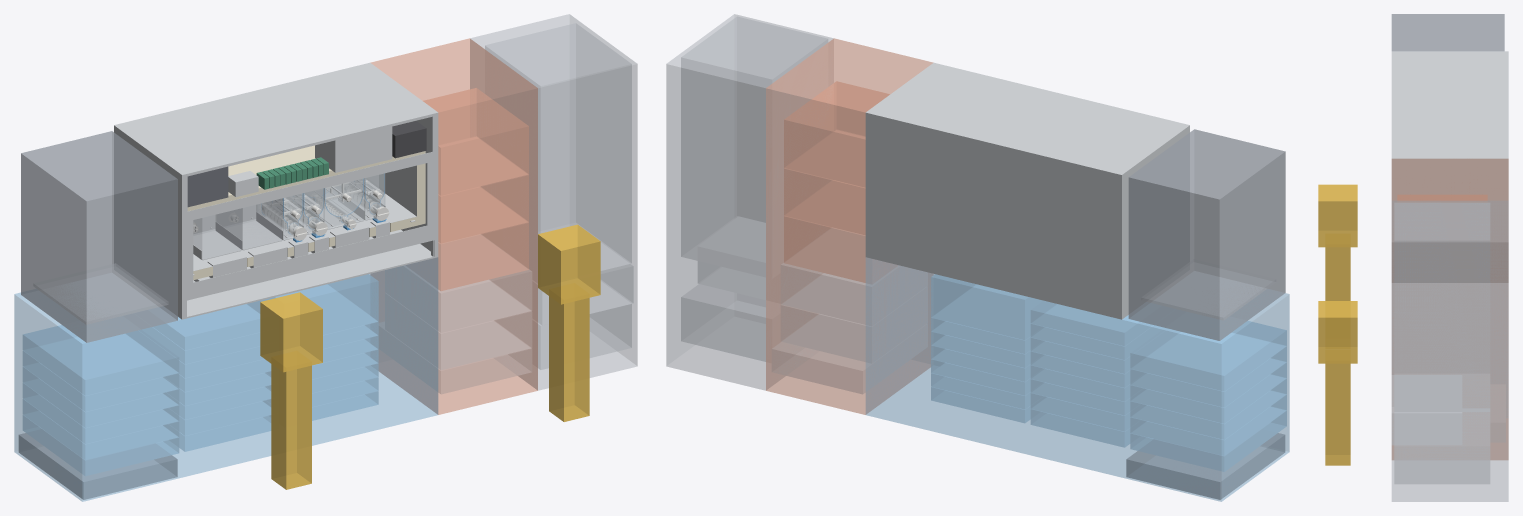
Rendered from hat_v9.glb.
The picture shows the model from 3 angles, left to right: view 1: azimuth 30°, elevation 25°; view 2: azimuth 150°, elevation 25°; view 3: azimuth 270°, elevation 25°; orthographic projection. The views are drawn at different scales.
Visible parts, largest first — view 1: B_KABIN, TOPPING_MODUL__sac, D_KABIN, E_KABIN, PRESS, E_SARJOR, FIRIN_3, CEK_K1_hamur_6, B_SOGUTMA, ROBOT_2, ROBOT_1, PRESS_PLAKA (+40 smaller); view 2: B_KABIN, TOPPING_MODUL__sac, D_KABIN, E_KABIN, PRESS, E_SARJOR, FIRIN_3, CEK_K1_hamur_6, B_SOGUTMA, E_MEK, PRESS_PLAKA, CEK_K3_icecek_1 (+25 smaller); view 3: E_KABIN, TOPPING_MODUL__sac, E_SARJOR, D_KABIN, E_MEK, PRESS, ROBOT_2, ROBOT_1_KOL, ROBOT_2_KOL, E_AGZ, ROBOT_1, FIRIN_3.
Part boxes in pixels (x1=…): B_KABIN: x1=14, y1=257, x2=438, y2=501; TOPPING_MODUL__sac: x1=114, y1=62, x2=438, y2=319; D_KABIN: x1=370, y1=38, x2=537, y2=414; E_KABIN: x1=470, y1=14, x2=637, y2=390; PRESS: x1=21, y1=131, x2=177, y2=342; E_SARJOR: x1=485, y1=23, x2=631, y2=270; FIRIN_3: x1=423, y1=88, x2=528, y2=195; CEK_K1_hamur_6: x1=23, y1=325, x2=178, y2=395; B_SOGUTMA: x1=18, y1=429, x2=177, y2=499; ROBOT_2: x1=549, y1=283, x2=589, y2=421; ROBOT_1: x1=271, y1=351, x2=311, y2=489; PRESS_PLAKA: x1=33, y1=263, x2=168, y2=324; B_KABIN: x1=865, y1=257, x2=1289, y2=501; TOPPING_MODUL__sac: x1=865, y1=62, x2=1189, y2=319; D_KABIN: x1=766, y1=38, x2=933, y2=414; E_KABIN: x1=666, y1=14, x2=833, y2=390; PRESS: x1=1128, y1=129, x2=1285, y2=340; E_SARJOR: x1=681, y1=16, x2=827, y2=277; FIRIN_3: x1=784, y1=81, x2=889, y2=187; CEK_K1_hamur_6: x1=1130, y1=321, x2=1286, y2=391; B_SOGUTMA: x1=1126, y1=429, x2=1285, y2=499; E_MEK: x1=681, y1=284, x2=765, y2=361; PRESS_PLAKA: x1=1141, y1=259, x2=1275, y2=320; CEK_K3_icecek_1: x1=931, y1=274, x2=1042, y2=339; E_KABIN: x1=1391, y1=200, x2=1508, y2=501; TOPPING_MODUL__sac: x1=1391, y1=51, x2=1508, y2=282; E_SARJOR: x1=1394, y1=203, x2=1489, y2=411; D_KABIN: x1=1392, y1=158, x2=1508, y2=459; E_MEK: x1=1394, y1=412, x2=1489, y2=483; PRESS: x1=1391, y1=14, x2=1504, y2=51; ROBOT_2: x1=1325, y1=363, x2=1350, y2=465; ROBOT_1_KOL: x1=1318, y1=184, x2=1357, y2=247; ROBOT_2_KOL: x1=1318, y1=301, x2=1357, y2=363; E_AGZ: x1=1392, y1=375, x2=1461, y2=444; ROBOT_1: x1=1325, y1=234, x2=1350, y2=300; FIRIN_3: x1=1397, y1=195, x2=1487, y2=200.
Bounding box in the file's own units: 3.9 × 2.03 × 1.35.
